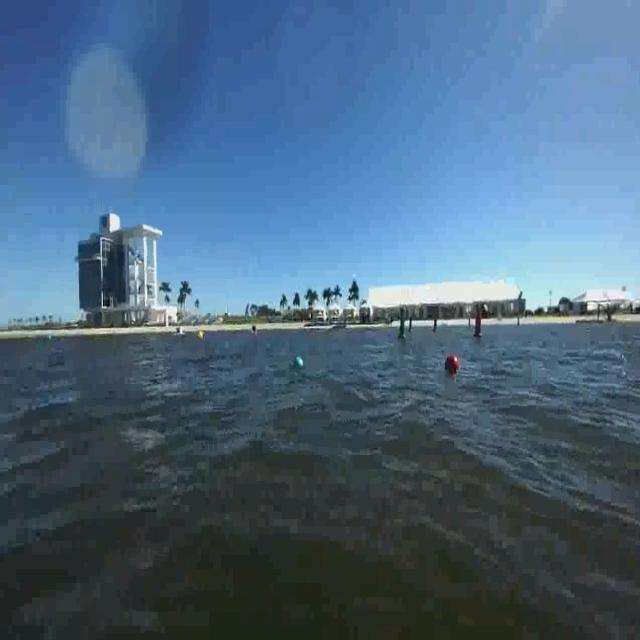green-buoy: (290, 356, 304, 370)
green-column-buoy: (397, 308, 406, 340)
red-buoy: (444, 356, 457, 371)
red-column-buoy: (472, 308, 482, 339)
yellow-buoy: (200, 328, 206, 340)
